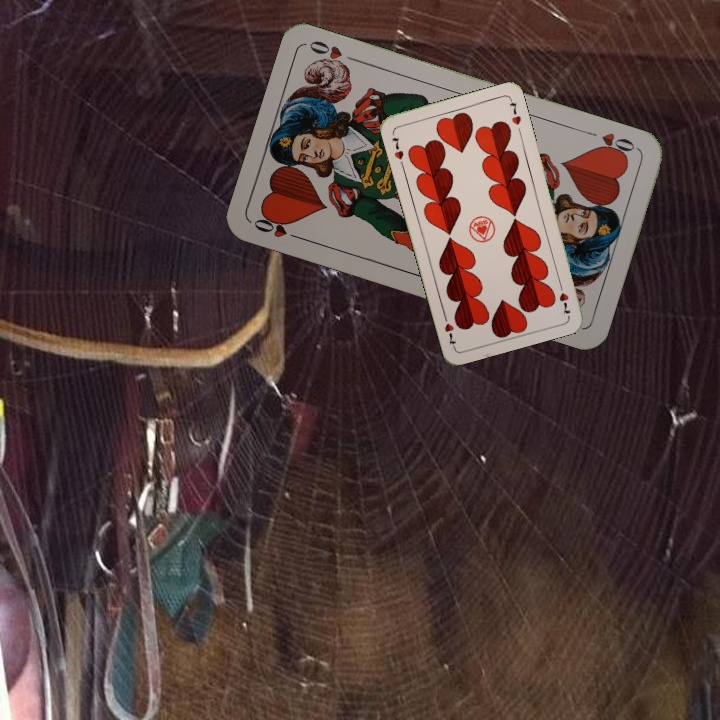H7: (555, 278, 573, 317), (387, 132, 406, 162)
HO: (582, 127, 638, 160), (249, 212, 307, 243)
